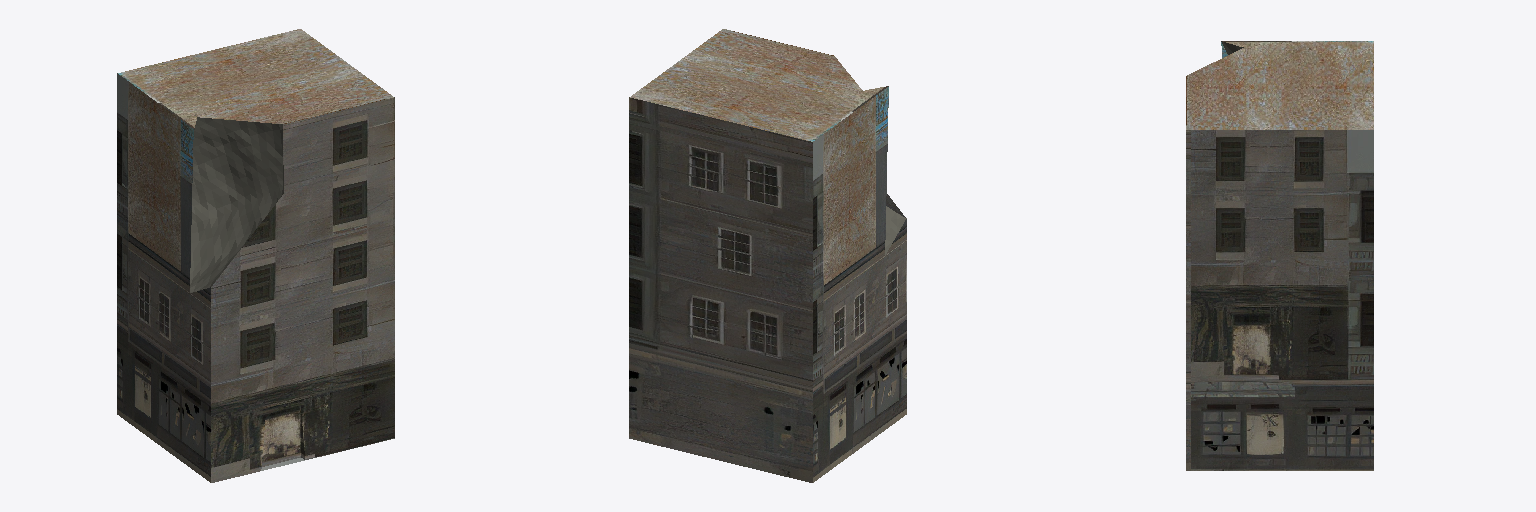
3 renders of one model, left to right at view 1: azimuth 30°, elevation 25°; view 2: azimuth 150°, elevation 25°; view 3: azimuth 270°, elevation 25°, orthographic.
Visible parts, largest first — view 1: Alto; view 2: Alto; view 3: Alto.
Part boxes in pixels (left/top/right/bottom): Alto: left=117, top=29, right=394, bottom=482; Alto: left=629, top=29, right=906, bottom=482; Alto: left=1186, top=41, right=1373, bottom=470.
Size of the model in its own units: 18.31 by 32.59 by 16.24.
1 materials, 1 textured.